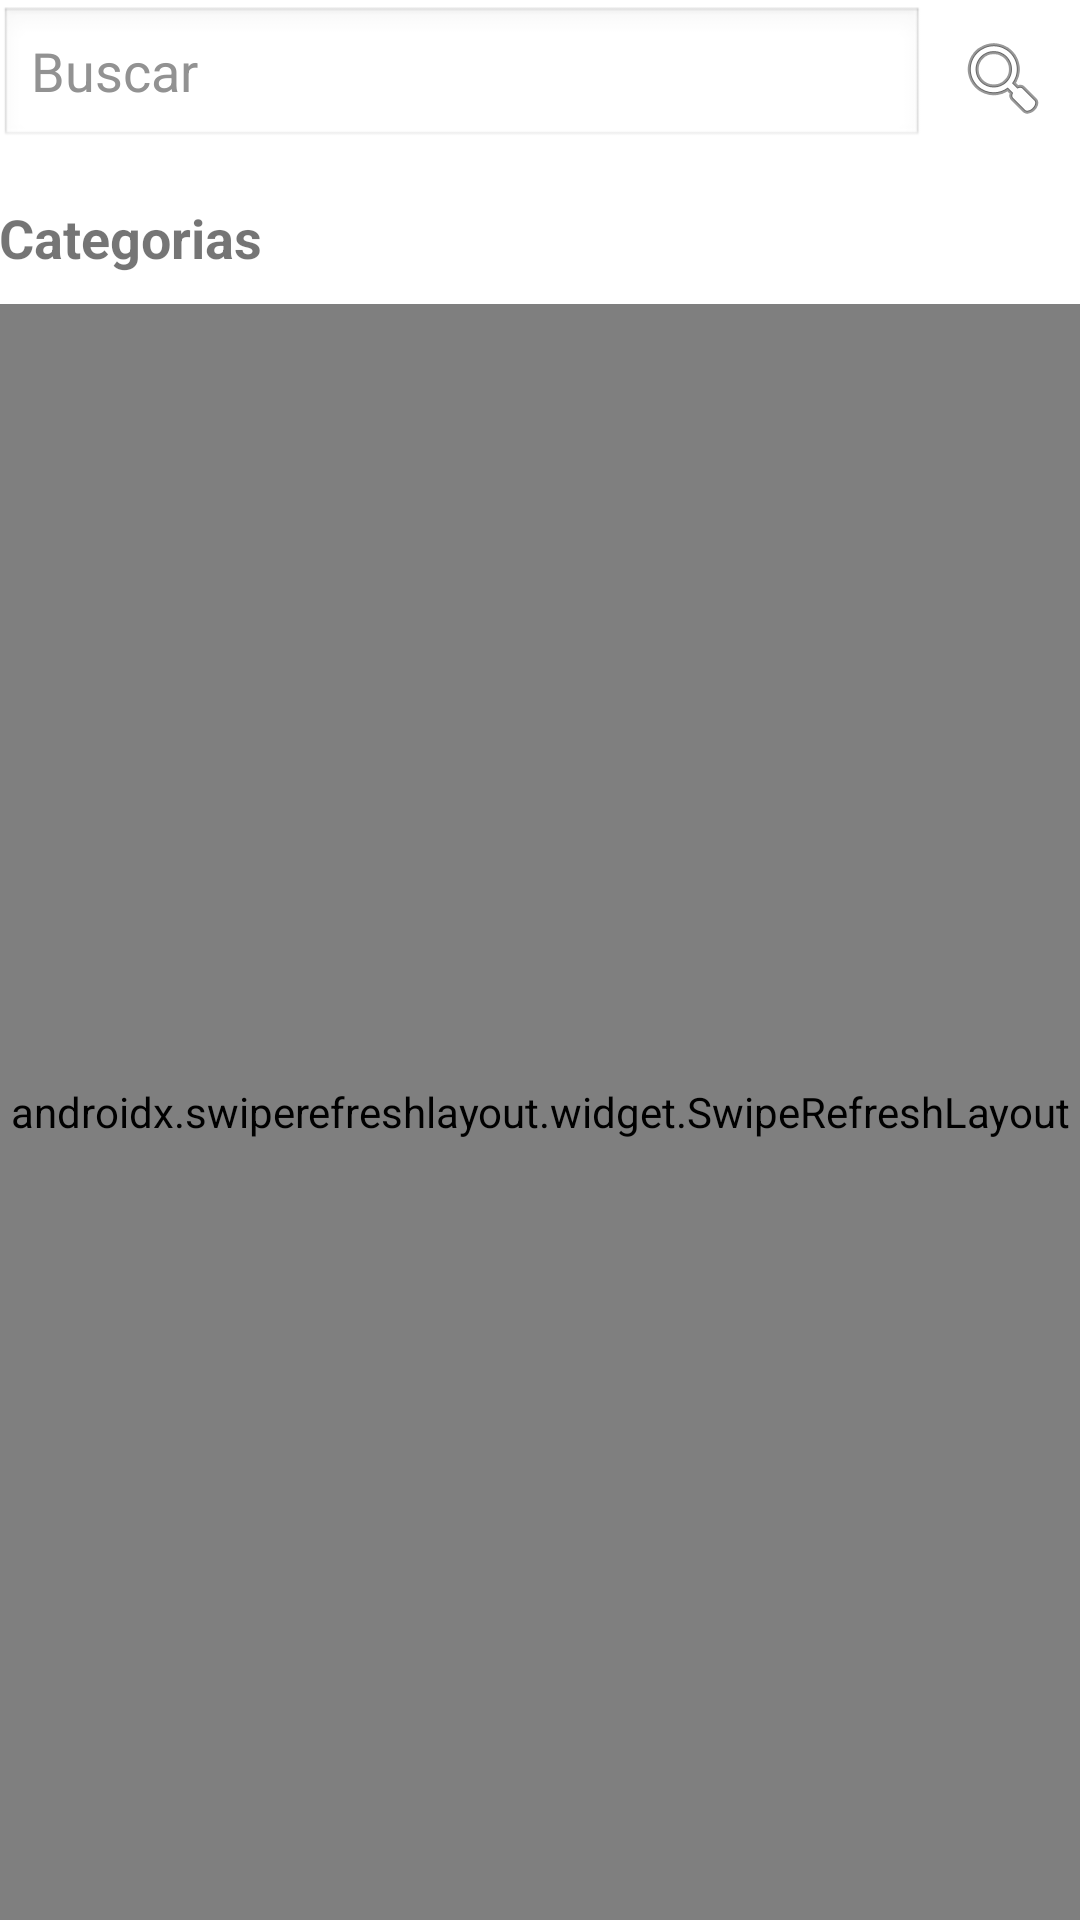

Icons on this 1080w x 1920h Android screen, each with the point to tap as [x,y]:
search: [1003,78]
